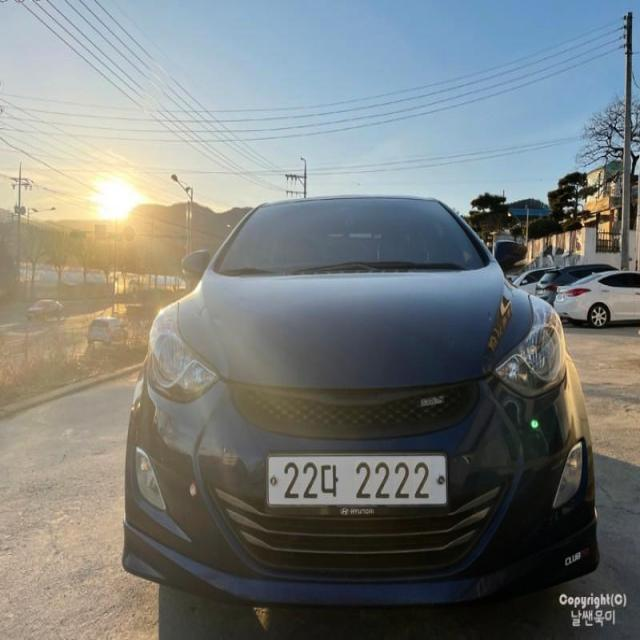car: (112, 190, 605, 610)
illegal_plate: (264, 449, 452, 523)
